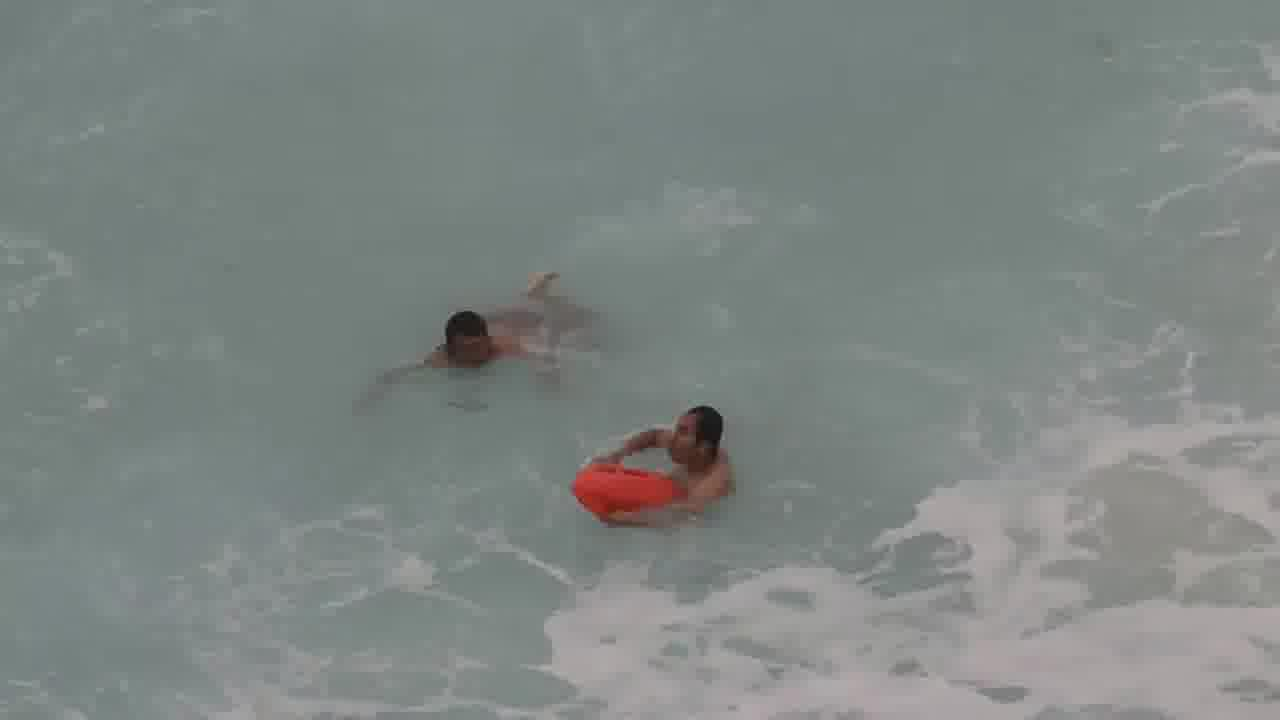swimmer: (657, 396, 744, 484), (424, 294, 504, 370)
